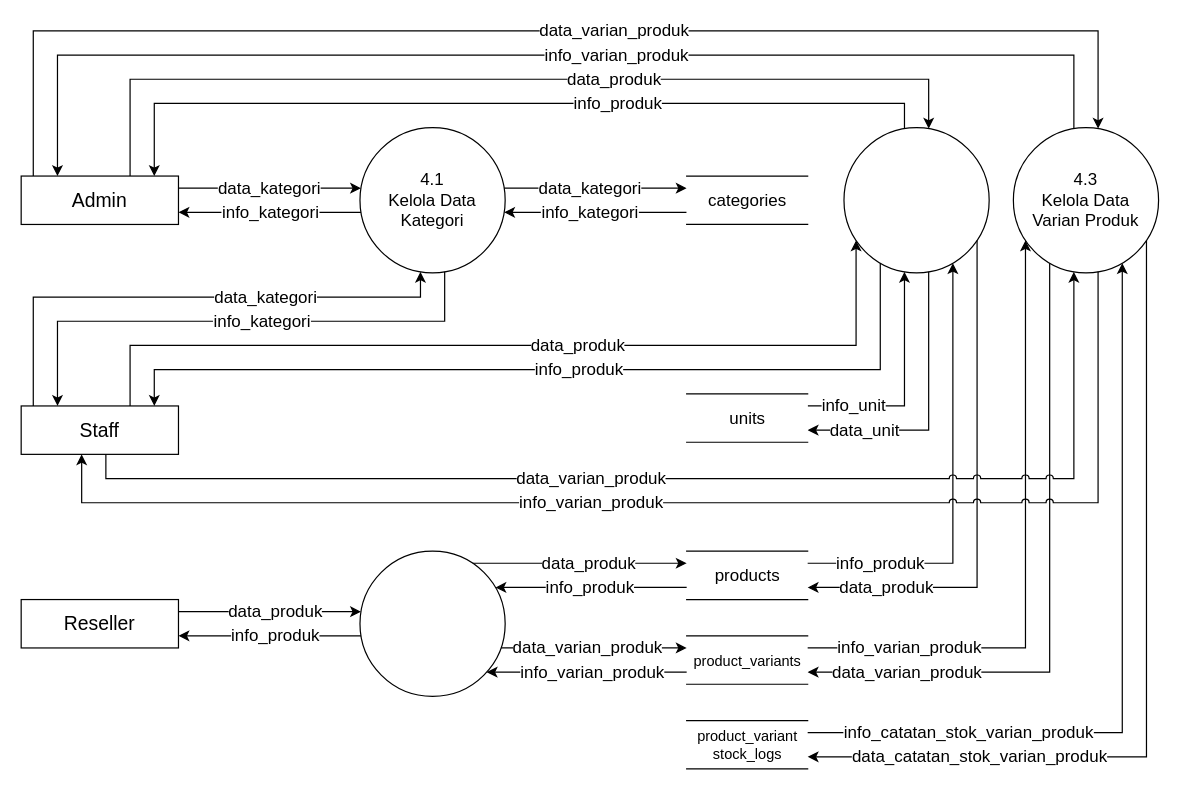
Image size: 1180x790. Some labels were removed from this diagram. Each missing label, with the box of its shape:
4.2 Kelola Data Produk: (843, 126, 989, 273)
4.4 Melihat Katalog Produk: (359, 550, 505, 696)
